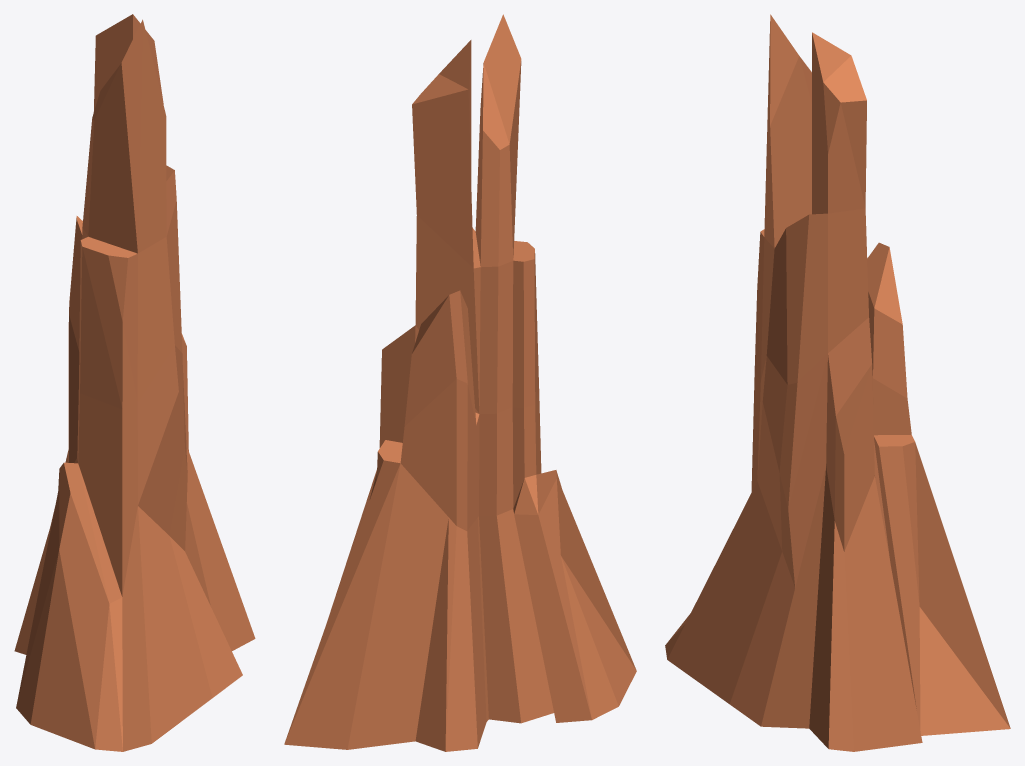
File: Stalagmite_1.fbx
The picture shows the model from 3 angles, left to right: view 1: azimuth 30°, elevation 25°; view 2: azimuth 150°, elevation 25°; view 3: azimuth 270°, elevation 25°; orthographic projection.
Parts seen in each view (by area): view 1: Stalagmite_1; view 2: Stalagmite_1; view 3: Stalagmite_1.
Boxes of the visible parts, <box> form: Stalagmite_1: <box>14,14,255,751</box>; Stalagmite_1: <box>284,14,636,751</box>; Stalagmite_1: <box>665,14,1010,751</box>.
Size of the model in its own units: 230 by 566 by 266.
